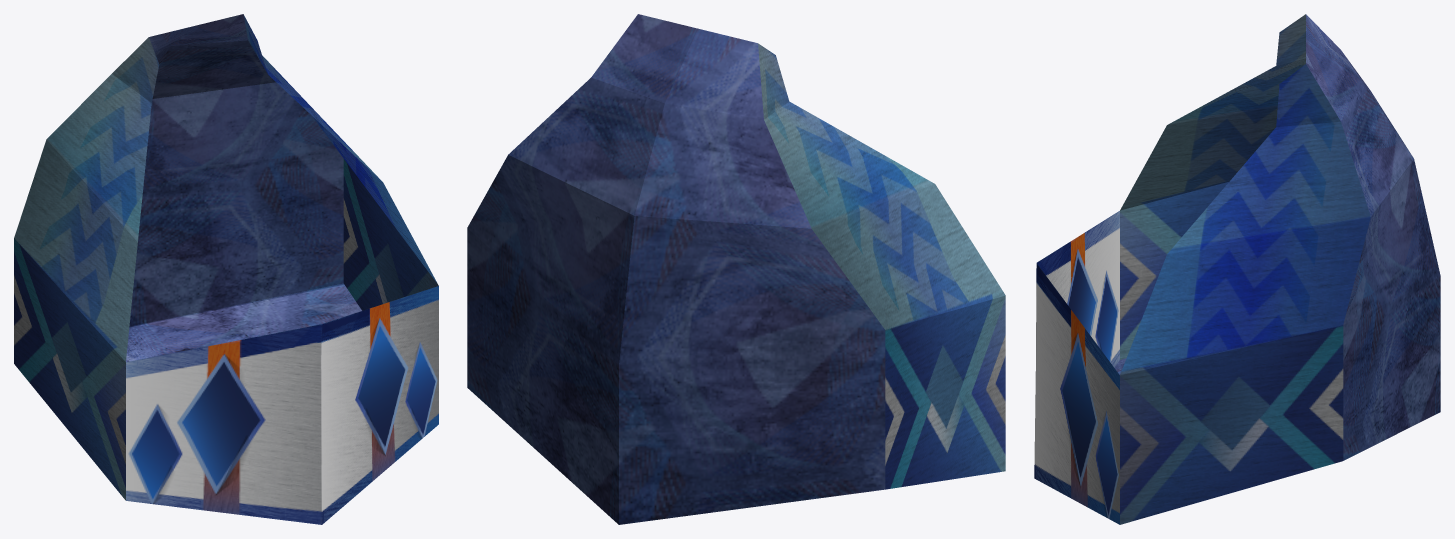
Rendered from dream_6.obj.
3 views of the same model, side by side, from view 1: azimuth 30°, elevation 25°; view 2: azimuth 150°, elevation 25°; view 3: azimuth 270°, elevation 25° (orthographic). The views are drawn at different scales.
Visible parts, largest first — view 1: head; view 2: head; view 3: head.
Part boxes in pixels (bbox=[...]): head: bbox=[14, 14, 438, 524]; head: bbox=[467, 14, 1005, 524]; head: bbox=[1034, 14, 1440, 524].
Size of the model in its own units: 236 by 279 by 234.
1 material, 1 textured.
